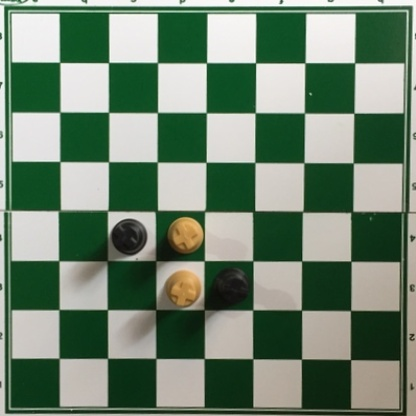black-rook: (211, 266, 255, 307), (111, 218, 147, 255)
white-rook: (166, 215, 204, 257), (163, 269, 200, 308)
